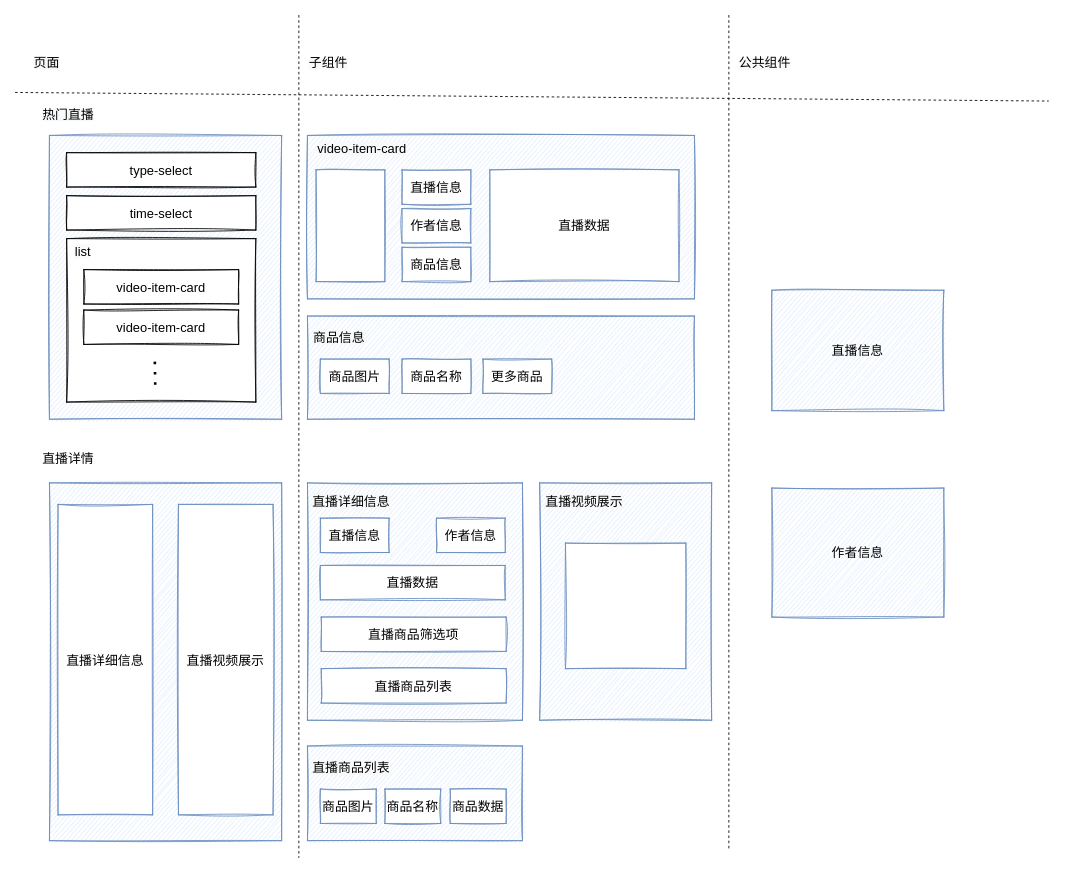
Some shapes in this 1065 by 874 pixel diagram are drawn without their labels. Each missing label, with the centre of its shape:
"播放视频" belongs at (x=625, y=605).
"直播图片" belongs at (x=350, y=225).
